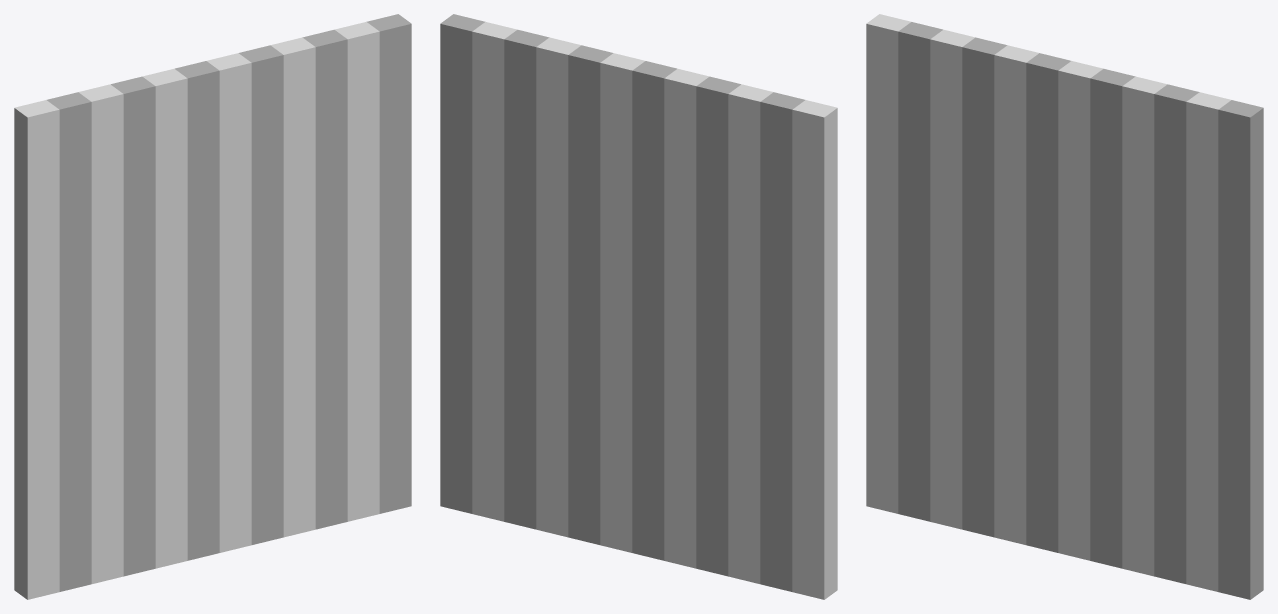
File: Wall2_C8_16.fbx
3 views of the same model, side by side, from view 1: azimuth 30°, elevation 25°; view 2: azimuth 150°, elevation 25°; view 3: azimuth 330°, elevation 25° (orthographic).
Visible parts, largest first — view 1: Wall2_C8_16; view 2: Wall2_C8_16; view 3: Wall2_C8_16.
Boxes of the visible parts, left/top/right/bottom form: Wall2_C8_16: left=14, top=14, right=411, bottom=599; Wall2_C8_16: left=440, top=14, right=837, bottom=599; Wall2_C8_16: left=866, top=14, right=1263, bottom=599.
Size of the model in its own units: 250 by 300 by 15.
